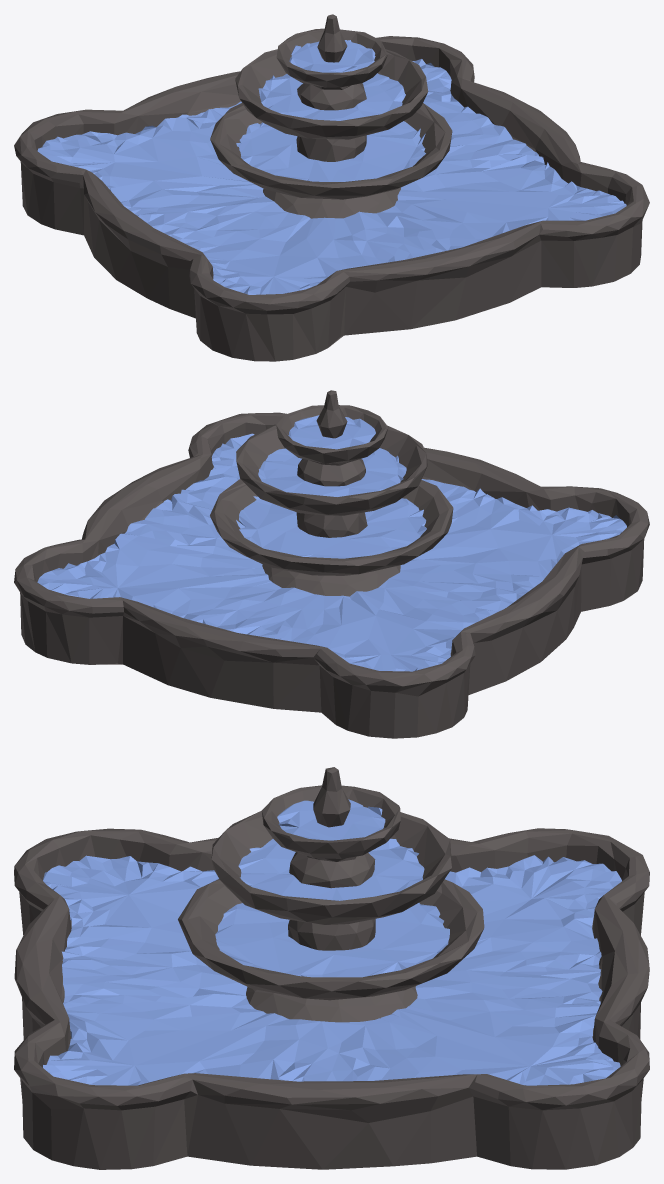
The model's file is Fountain.fbx.
The picture shows the model from 3 angles, top to bottom: view 1: azimuth 30°, elevation 25°; view 2: azimuth 150°, elevation 25°; view 3: azimuth 270°, elevation 25°; orthographic projection. The views are drawn at different scales.
Visible parts, largest first — view 1: Cylinder, Cylinder.002, Cylinder.001, Circle, Circle.001, Circle.002; view 2: Cylinder, Cylinder.002, Cylinder.001, Circle, Circle.001, Circle.002; view 3: Cylinder, Cylinder.002, Cylinder.001, Circle, Circle.001, Circle.002.
Boxes of the visible parts, <box> form: Cylinder: <box>14,36,649,361</box>; Cylinder.002: <box>37,59,626,294</box>; Cylinder.001: <box>210,14,452,218</box>; Circle: <box>236,121,425,181</box>; Circle.001: <box>258,73,405,120</box>; Circle.002: <box>289,40,375,72</box>; Cylinder: <box>14,412,649,738</box>; Cylinder.002: <box>37,433,626,671</box>; Cylinder.001: <box>210,390,453,596</box>; Circle: <box>236,496,426,558</box>; Circle.001: <box>258,448,406,496</box>; Circle.002: <box>288,415,375,449</box>; Cylinder: <box>14,828,649,1169</box>; Cylinder.002: <box>43,855,621,1085</box>; Cylinder.001: <box>178,767,484,1022</box>; Circle: <box>215,902,449,977</box>; Circle.001: <box>238,838,424,900</box>; Circle.002: <box>277,799,385,840</box>.
Bounding box in the file's own units: 1887 × 887 × 1883.
